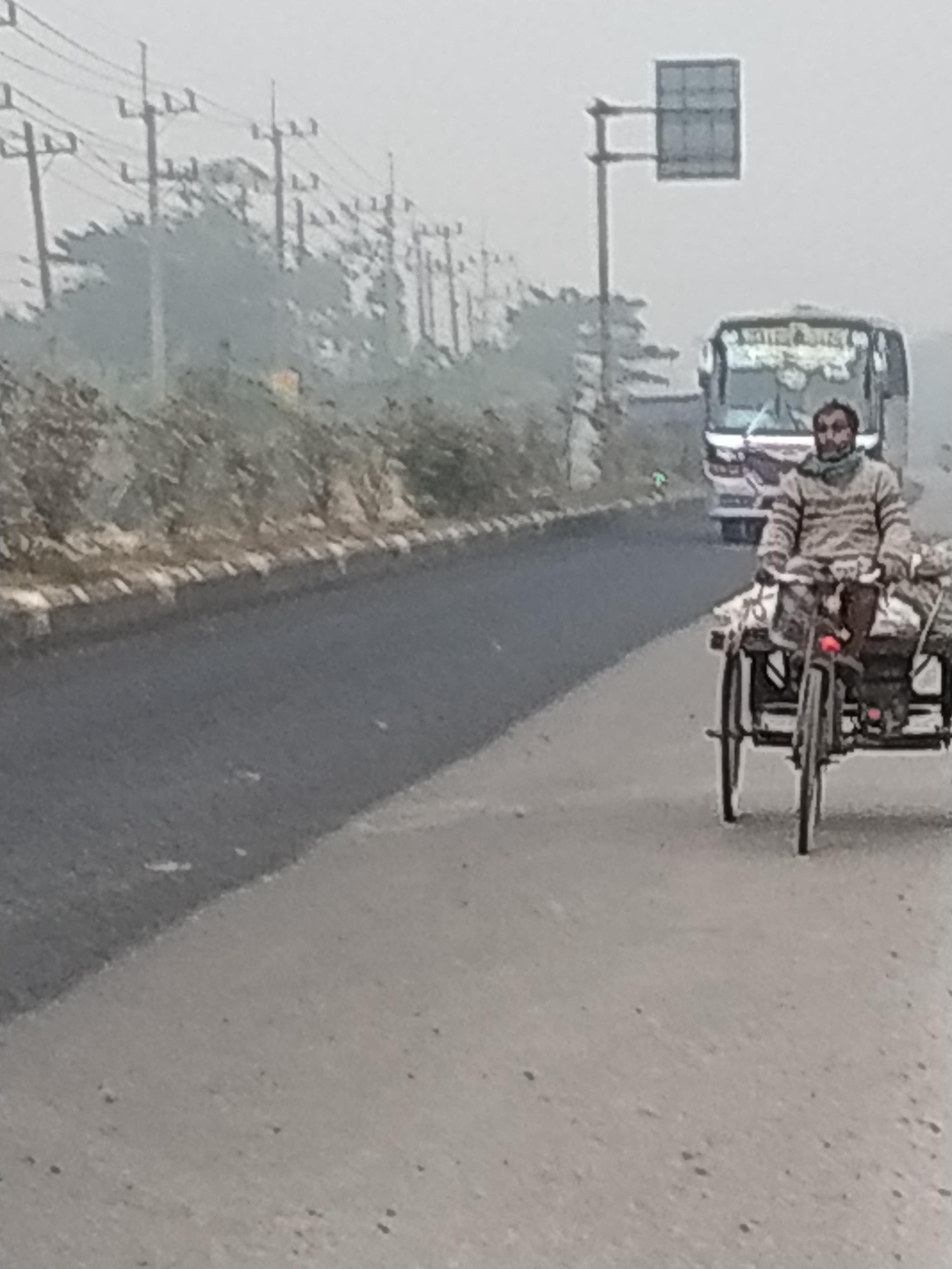Bus: (699, 297, 909, 539)
